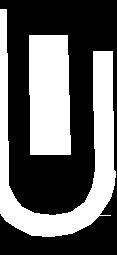parkingspot: (0, 9, 115, 236), (48, 35, 70, 154), (29, 35, 50, 154)
